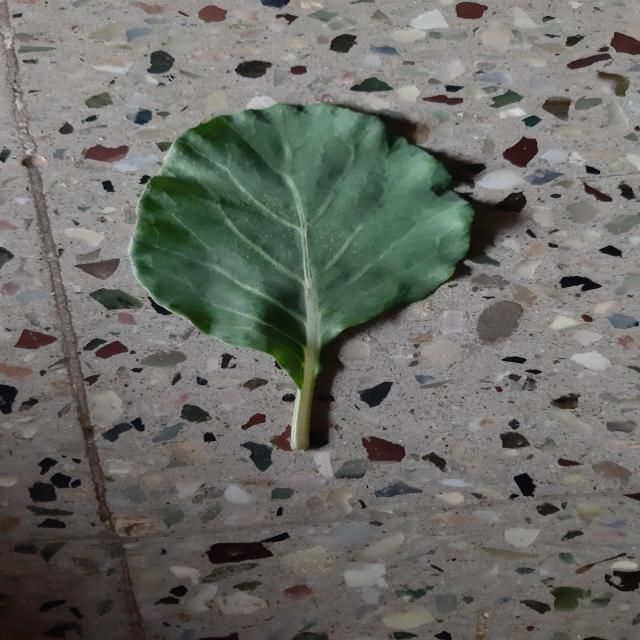Kohlrabi: (131, 104, 473, 450)
